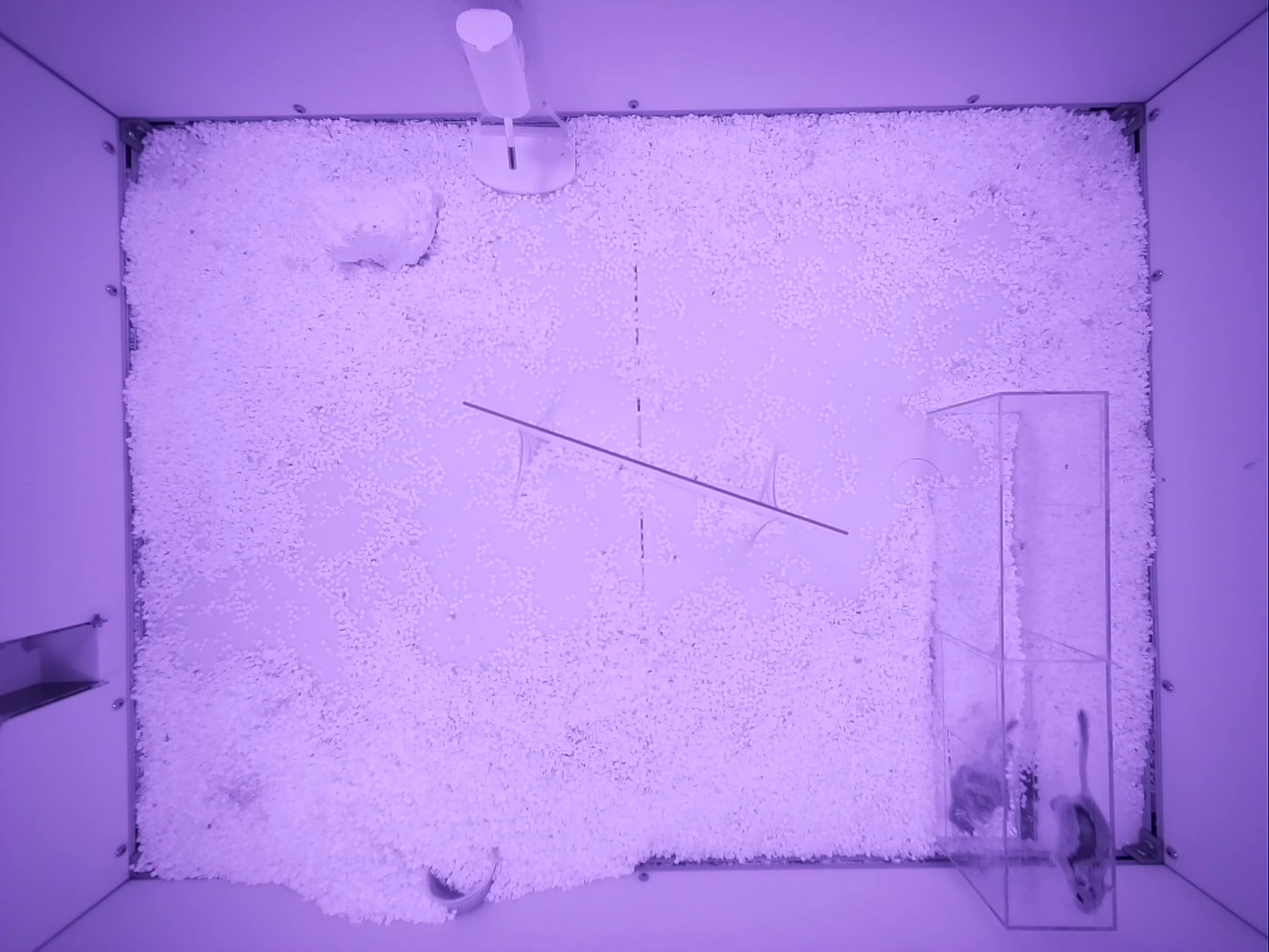adult_back: (1050, 709, 1113, 911), (949, 720, 1016, 835), (427, 847, 499, 914)
